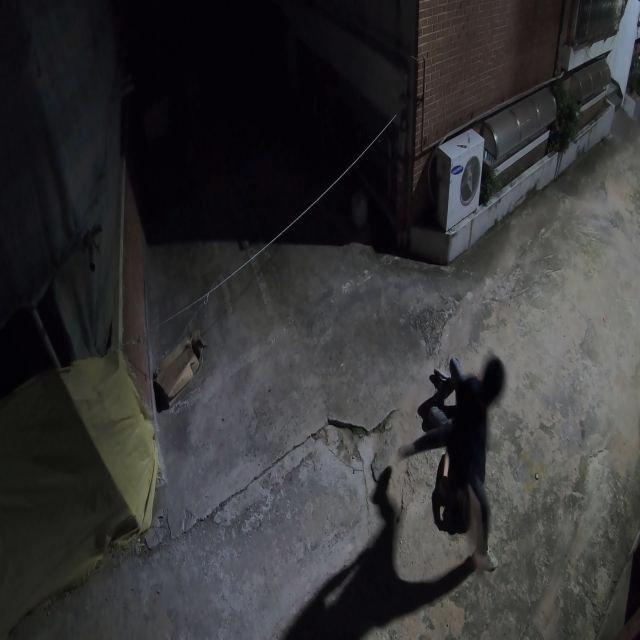fight: (412, 350, 508, 571)
